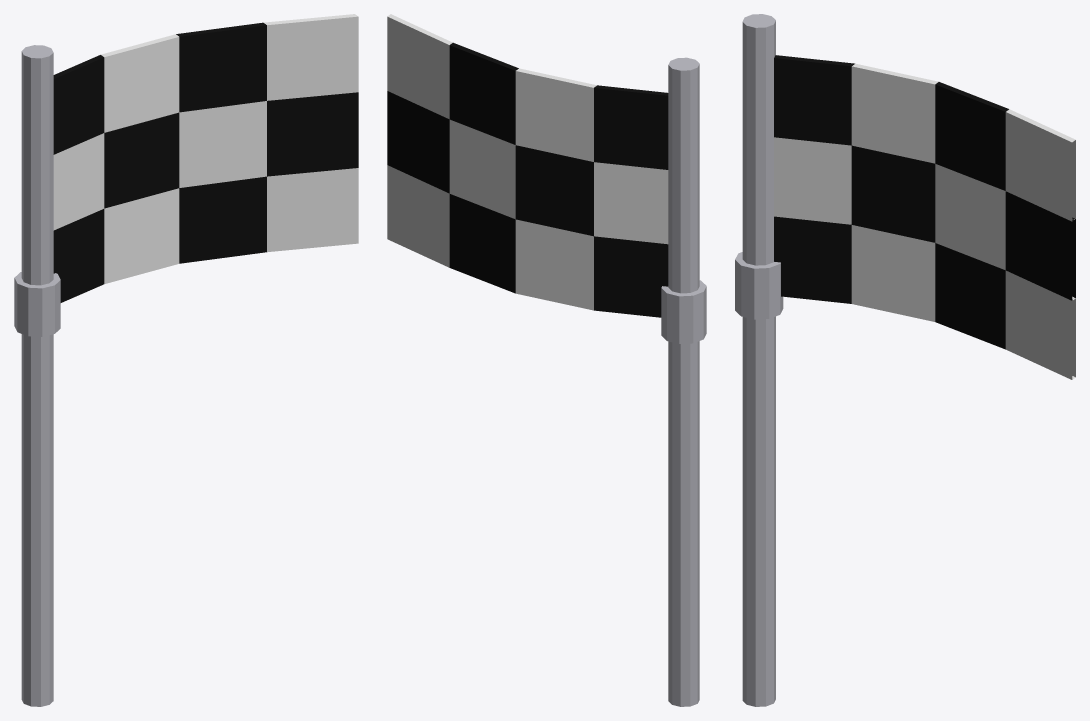
The model's file is Racing Flag.fbx.
The picture shows the model from 3 angles, left to right: view 1: azimuth 30°, elevation 25°; view 2: azimuth 150°, elevation 25°; view 3: azimuth 330°, elevation 25°; orthographic projection. The views are drawn at different scales.
Parts seen in each view (by area): view 1: Pole, Sq2_3, Sq1_3, Sq0_3, Sq2_2, Sq0_2, Sq1_2, Sq2_1, Sq1_1, Sq0_1, Sq2_0, Sq1_0 (+2 smaller); view 2: Pole, Sq2_1, Sq0_1, Sq1_1, Sq2_0, Sq1_0, Sq0_0, Sq2_2, Sq1_2, Sq0_2, Sq2_3, Sq0_3 (+2 smaller); view 3: Pole, Sq2_1, Sq1_1, Sq0_1, Sq2_0, Sq1_0, Sq0_0, Sq2_2, Sq2_3, Sq0_3, Sq1_3, Sq0_2 (+2 smaller).
Part boxes in pixels (<box>): Pole: <box>21,45,53,706</box>; Sq2_3: <box>264,14,358,100</box>; Sq1_3: <box>267,92,358,176</box>; Sq0_3: <box>267,168,358,252</box>; Sq2_2: <box>176,22,266,112</box>; Sq0_2: <box>179,176,266,263</box>; Sq1_2: <box>179,101,266,187</box>; Sq2_1: <box>101,34,179,132</box>; Sq1_1: <box>104,112,179,208</box>; Sq0_1: <box>104,188,179,283</box>; Sq2_0: <box>53,55,104,154</box>; Sq1_0: <box>53,133,104,230</box>; Pole: <box>668,57,699,706</box>; Sq2_1: <box>515,68,596,161</box>; Sq0_1: <box>515,219,593,310</box>; Sq1_1: <box>515,145,593,236</box>; Sq2_0: <box>594,85,668,169</box>; Sq1_0: <box>594,162,668,244</box>; Sq0_0: <box>594,236,668,317</box>; Sq2_2: <box>449,42,518,144</box>; Sq1_2: <box>449,119,515,219</box>; Sq0_2: <box>449,194,515,293</box>; Sq2_3: <box>387,14,452,119</box>; Sq0_3: <box>387,165,449,267</box>; Pole: <box>742,14,775,706</box>; Sq2_1: <box>851,63,938,163</box>; Sq1_1: <box>851,145,935,242</box>; Sq0_1: <box>851,225,935,321</box>; Sq2_0: <box>774,55,854,145</box>; Sq1_0: <box>774,137,851,224</box>; Sq0_0: <box>774,216,851,303</box>; Sq2_2: <box>935,82,1008,190</box>; Sq2_3: <box>1005,109,1075,221</box>; Sq0_3: <box>1005,270,1075,379</box>; Sq1_3: <box>1005,191,1075,300</box>; Sq0_2: <box>935,243,1005,349</box>.
Bounding box in the file's own units: 42.6 × 80 × 6.2.
Materials: 3 (3 with a texture image).
